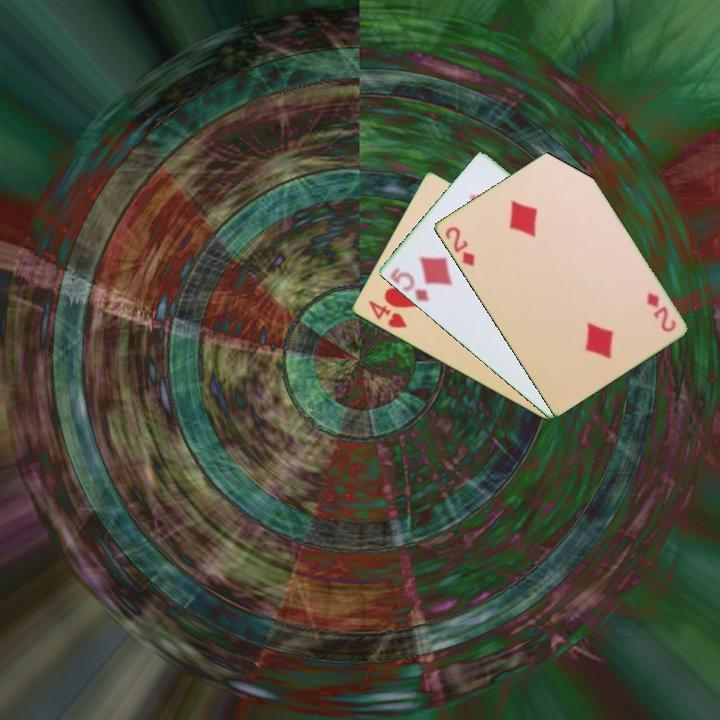2d: (441, 223, 477, 269), (643, 289, 678, 335)
4h: (364, 297, 410, 331)
5d: (386, 264, 431, 305)
